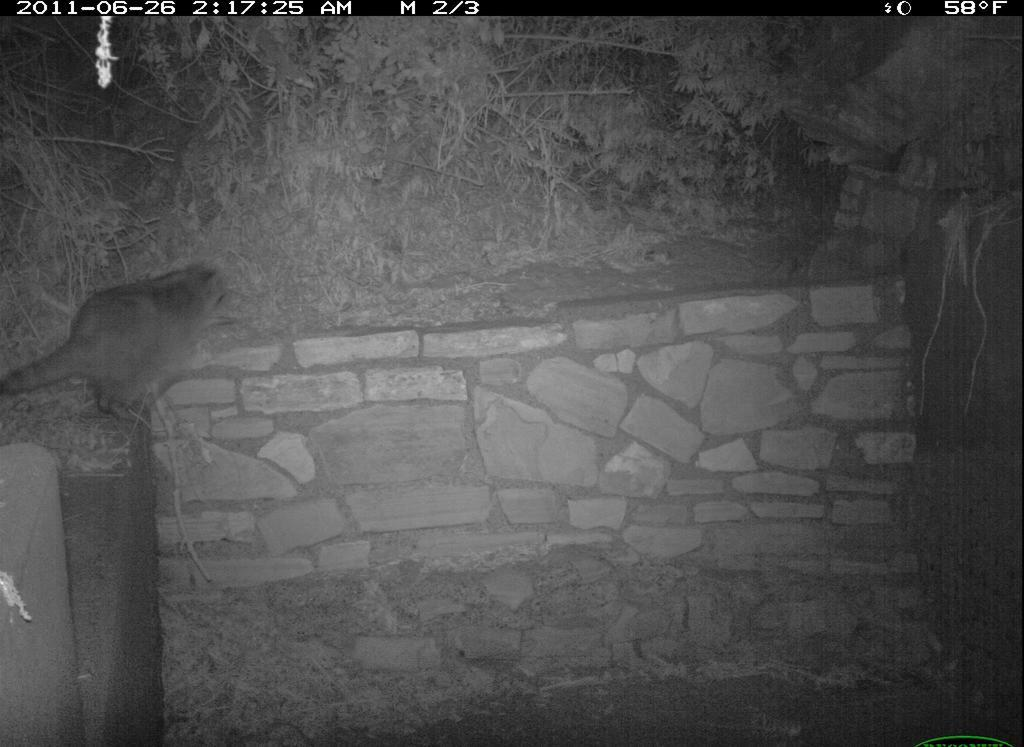raccoon: (2, 251, 235, 433)
